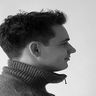ear: (26, 37, 46, 62)
